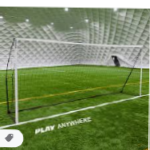goals: (5, 35, 146, 125)
